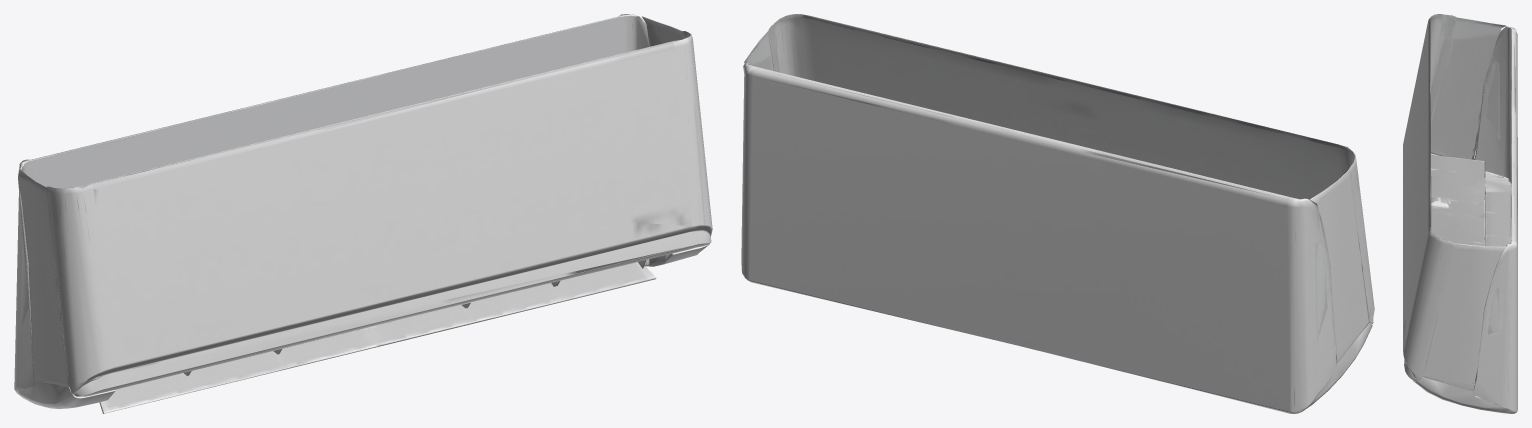
Rendered from Meshy_AI_Wall_Mounted_Air_Cond_1020124726_texture.glb.
3 views of the same model, side by side, from view 1: azimuth 30°, elevation 25°; view 2: azimuth 150°, elevation 25°; view 3: azimuth 270°, elevation 25° (orthographic). The views are drawn at different scales.
Bounding box in the file's own units: 0.9546 × 0.3594 × 0.2041.
1 material, 1 textured.
